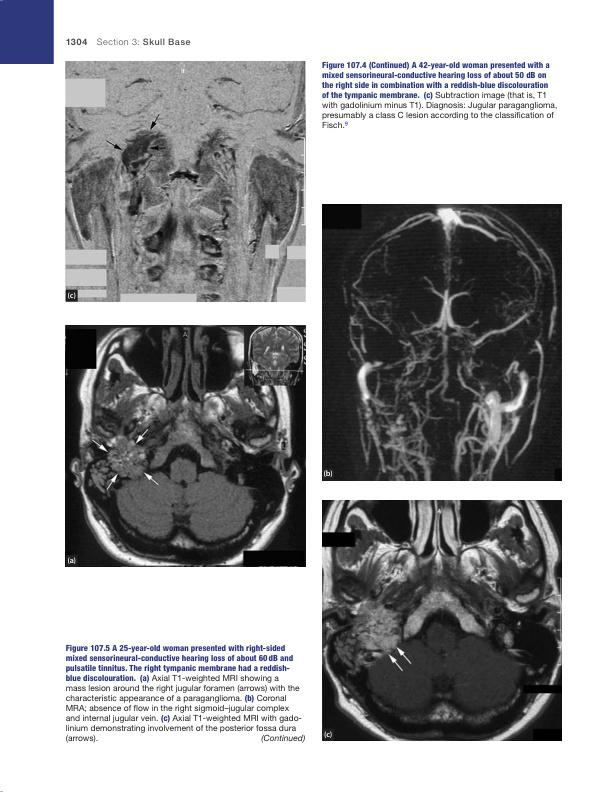caption: (64, 643, 306, 744), (320, 60, 558, 130), (323, 469, 334, 478), (323, 730, 334, 739), (67, 556, 77, 565), (67, 291, 76, 300)
header: (96, 36, 192, 47)
image: (321, 202, 562, 482), (64, 323, 306, 568), (321, 498, 563, 742), (65, 61, 307, 302)
